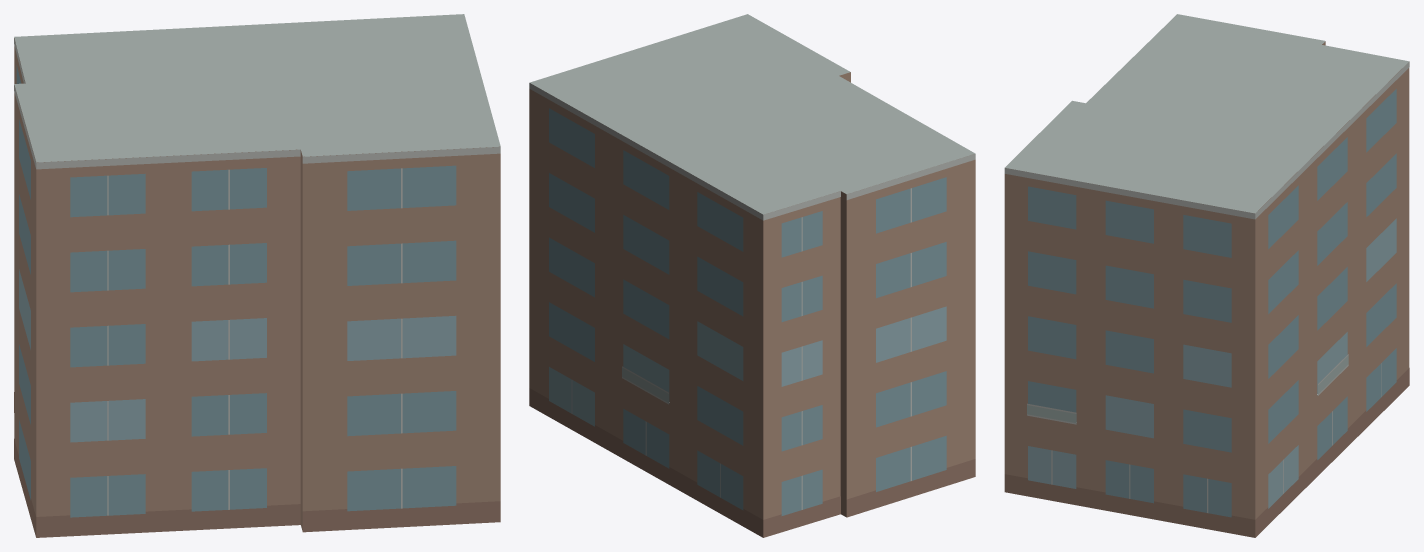
Rendered from survey-upis-32659021.glb.
3 renders of one model, left to right at view 1: azimuth 30°, elevation 25°; view 2: azimuth 150°, elevation 25°; view 3: azimuth 270°, elevation 25°, orthographic. The views are drawn at different scales.
Parts seen in each view (by area): view 1: survey-upis-32659021.tmp; view 2: survey-upis-32659021.tmp; view 3: survey-upis-32659021.tmp.
Part boxes in pixels (left/top/right/bottom): survey-upis-32659021.tmp: left=14, top=14, right=500, bottom=537; survey-upis-32659021.tmp: left=529, top=14, right=975, bottom=537; survey-upis-32659021.tmp: left=1004, top=14, right=1409, bottom=537.
Bounding box in the file's own units: 17.42 × 13.2 × 14.94.
